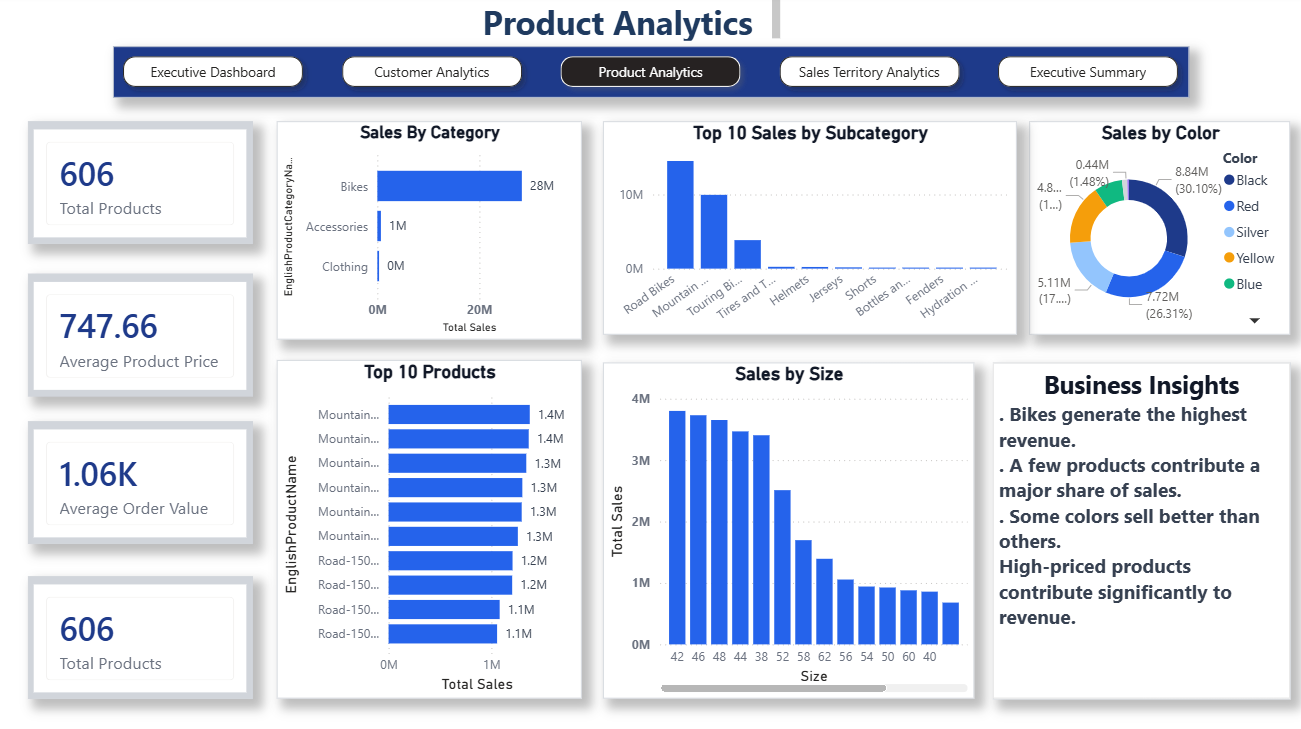

Layout of this report page (visuals, bound fields, positions):
{"tool":"powerbi","page":{"name":"Product Analytics","canvas":[1280,720],"ordinal":2},"visuals":[{"type":"cardVisual","fields":{"Data":["Measuress.Total Products"]},"box":[29.3,123.5,220,120],"z":0},{"type":"textbox","box":[450,0,320,50],"z":1000},{"type":"cardVisual","fields":{"Data":["Measuress.Average Product Price"]},"box":[29.3,272.7,220,120],"z":2000},{"type":"cardVisual","fields":{"Data":["Measuress.Average Order Value"]},"box":[29.3,417,220,120],"z":3000},{"type":"cardVisual","fields":{"Data":["Measuress.Total Products"]},"box":[29.3,568.6,220,120],"z":4000},{"type":"clusteredBarChart","title":"Sales By Category","fields":{"Category":["ProductCategory.EnglishProductCategoryName"],"Y":["Measuress.Total Sales"]},"box":[272.7,123.5,298.4,214],"z":5000},{"type":"barChart","title":"Top 10 Products","fields":{"Y":["Measuress.Total Sales"],"Category":["Product.EnglishProductName"]},"box":[272.7,357.1,298.4,331.4],"z":6000},{"type":"donutChart","title":"Sales by Color","fields":{"Category":["Product.Color"],"Y":["Measuress.Total Sales"]},"box":[1008.8,123.5,255.6,209.1],"z":7000},{"type":"clusteredColumnChart","title":" Sales by Size","fields":{"Category":["Product.Size"],"Y":["Measuress.Total Sales"]},"box":[591.9,359.5,363.2,328.9],"z":8000},{"type":"textbox","box":[972.9,359.5,290.9,329.3],"z":9000},{"type":"pageNavigator","box":[112.9,50,1052.9,50],"z":10000},{"type":"clusteredColumnChart","title":"Top 10 Sales by Subcategory","fields":{"Category":["ProductSubCategory.EnglishProductSubcategoryName"],"Y":["Measuress.Total Sales"]},"box":[591.4,123.5,404.8,208.6],"z":11000}]}

Visuals, with their boxes in screenshot pixels (x1, y1, x2, y2), scaled from the page's 1280x720 canvas onto the 1301x729 screenshot:
cardVisual - Measuress.Total Products: (30,125,253,247)
textbox: (457,0,783,51)
cardVisual - Measuress.Average Product Price: (30,276,253,398)
cardVisual - Measuress.Average Order Value: (30,422,253,544)
cardVisual - Measuress.Total Products: (30,576,253,697)
"Sales By Category" clusteredBarChart: (277,125,580,342)
"Top 10 Products" barChart: (277,362,580,697)
"Sales by Color" donutChart: (1025,125,1285,337)
" Sales by Size" clusteredColumnChart: (602,364,971,697)
textbox: (989,364,1285,697)
pageNavigator: (115,51,1185,101)
"Top 10 Sales by Subcategory" clusteredColumnChart: (601,125,1013,336)
